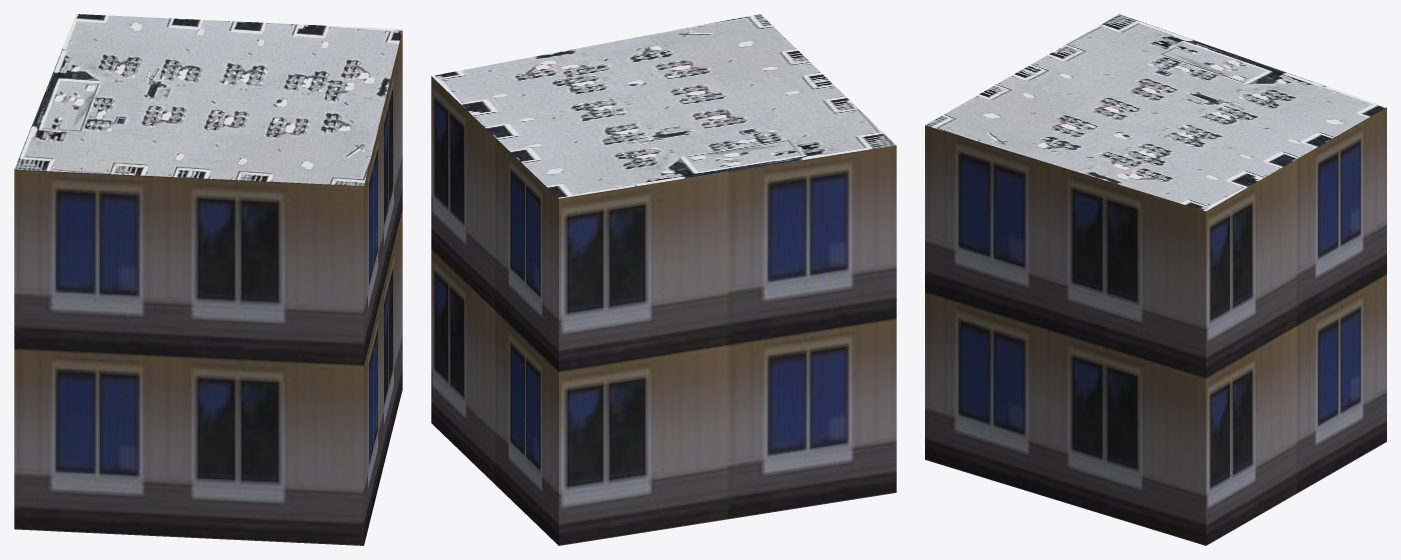
File: ResTex__5268.fbx
3 views of the same model, side by side, from view 1: azimuth 30°, elevation 25°; view 2: azimuth 150°, elevation 25°; view 3: azimuth 270°, elevation 25° (orthographic). The views are drawn at different scales.
Visible parts, largest first — view 1: CityEngineMaterial_5_m, CityEngineMaterial_4_m; view 2: CityEngineMaterial_5_m, CityEngineMaterial_4_m; view 3: CityEngineMaterial_5_m, CityEngineMaterial_4_m.
Part boxes in pixels (bbox=[...]): CityEngineMaterial_5_m: bbox=[14, 30, 402, 545]; CityEngineMaterial_4_m: bbox=[14, 14, 402, 185]; CityEngineMaterial_5_m: bbox=[431, 76, 896, 545]; CityEngineMaterial_4_m: bbox=[432, 14, 896, 198]; CityEngineMaterial_5_m: bbox=[925, 107, 1386, 545]; CityEngineMaterial_4_m: bbox=[925, 14, 1386, 211].
Size of the model in its own units: 7.59 by 6 by 7.5.
Materials: 2 (2 with a texture image).
